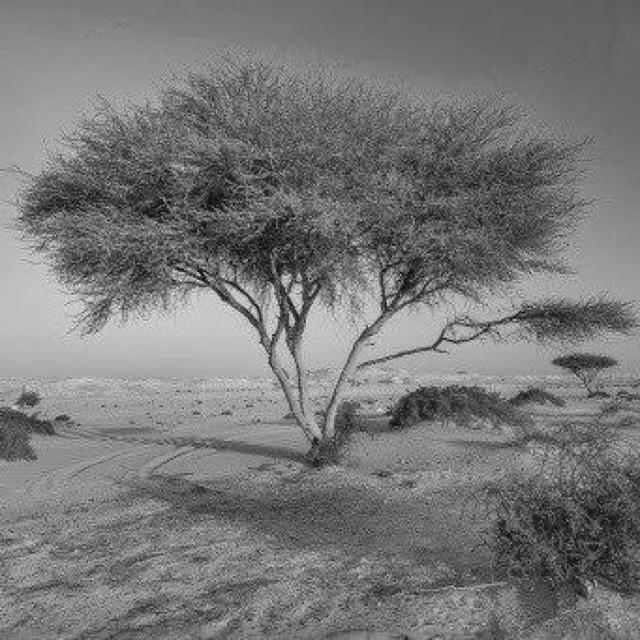Acacia: (29, 74, 600, 378)
